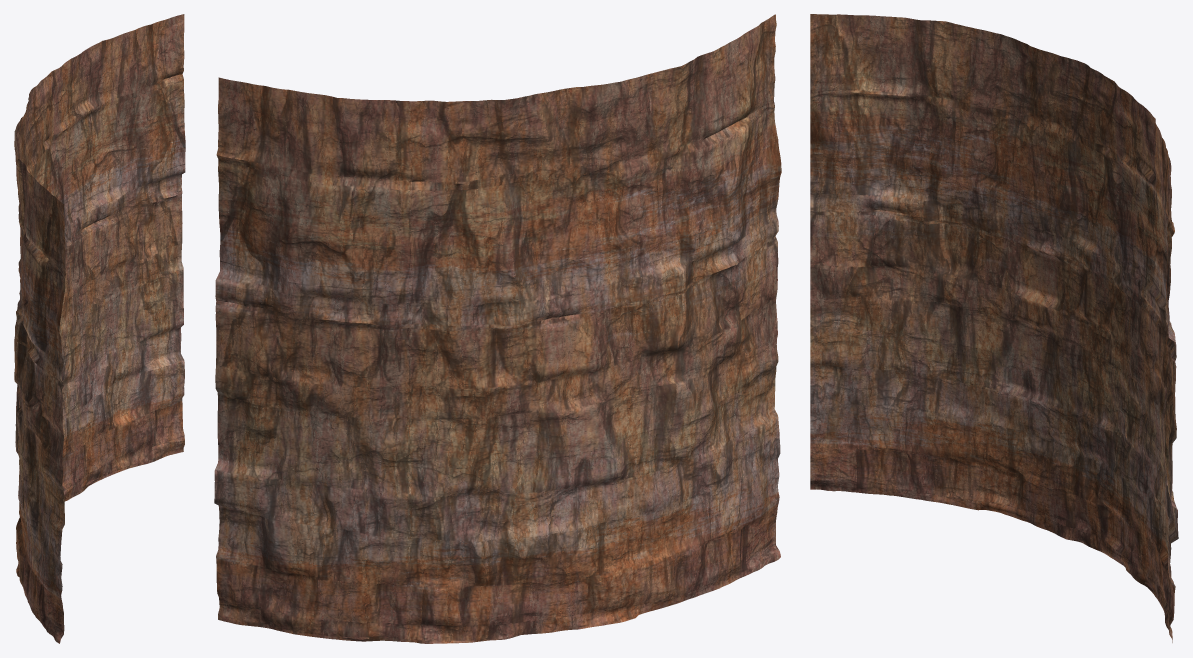
Rendered from cliff1_curved.fbx.
3 renders of one model, left to right at view 1: azimuth 30°, elevation 25°; view 2: azimuth 150°, elevation 25°; view 3: azimuth 270°, elevation 25°, orthographic. The views are drawn at different scales.
Visible parts, largest first — view 1: cliff1; view 2: cliff1; view 3: cliff1.
Boxes of the visible parts, x1=… form: cliff1: x1=14, y1=14, x2=185, y2=643; cliff1: x1=214, y1=14, x2=781, y2=643; cliff1: x1=810, y1=14, x2=1178, y2=642.
Size of the model in its own units: 6930 by 10000 by 6981.
